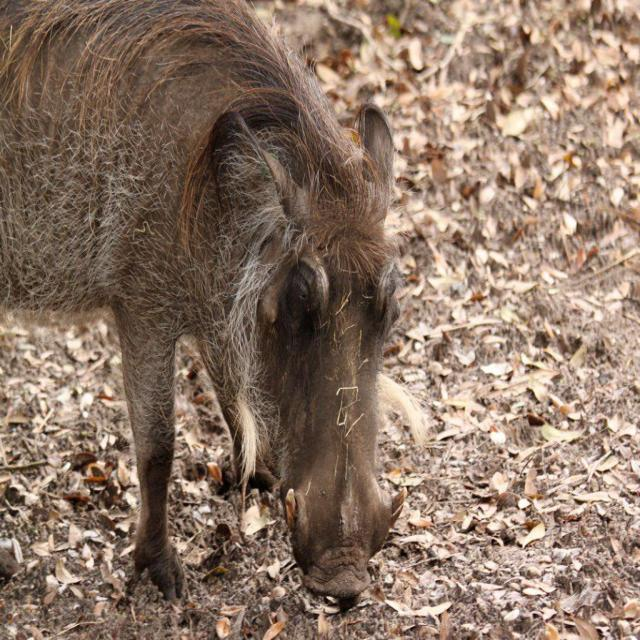Pig: (0, 0, 439, 613)
